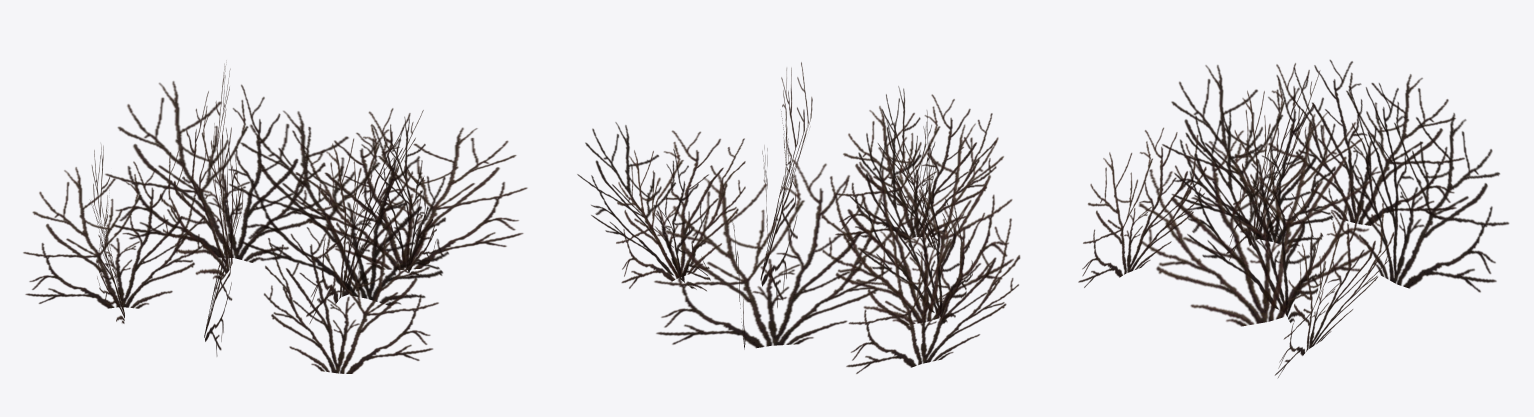
Rendered from hr_tree13.glb.
3 views of the same model, side by side, from view 1: azimuth 30°, elevation 25°; view 2: azimuth 150°, elevation 25°; view 3: azimuth 270°, elevation 25° (orthographic). The views are drawn at different scales.
Visible parts, largest first — view 1: hr_tree13-col; view 2: hr_tree13-col; view 3: hr_tree13-col.
Part boxes in pixels (x1,y1,x2,y2): hr_tree13-col: [23, 62, 527, 373]; hr_tree13-col: [577, 62, 1020, 373]; hr_tree13-col: [1078, 60, 1509, 378].
Size of the model in its own units: 10.24 by 4.13 by 8.64.
Materials: 1 (1 with a texture image).
